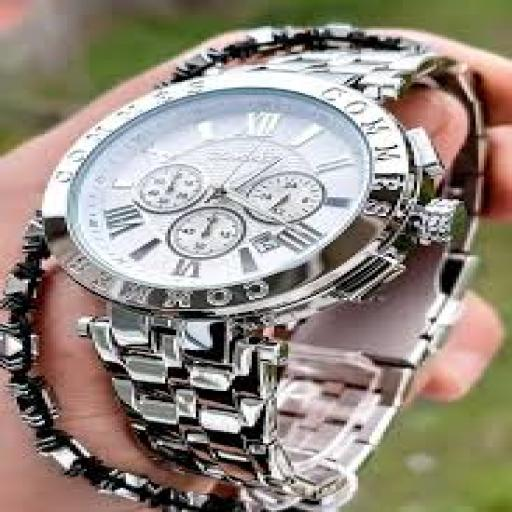KolSaati: (12, 10, 460, 496)
